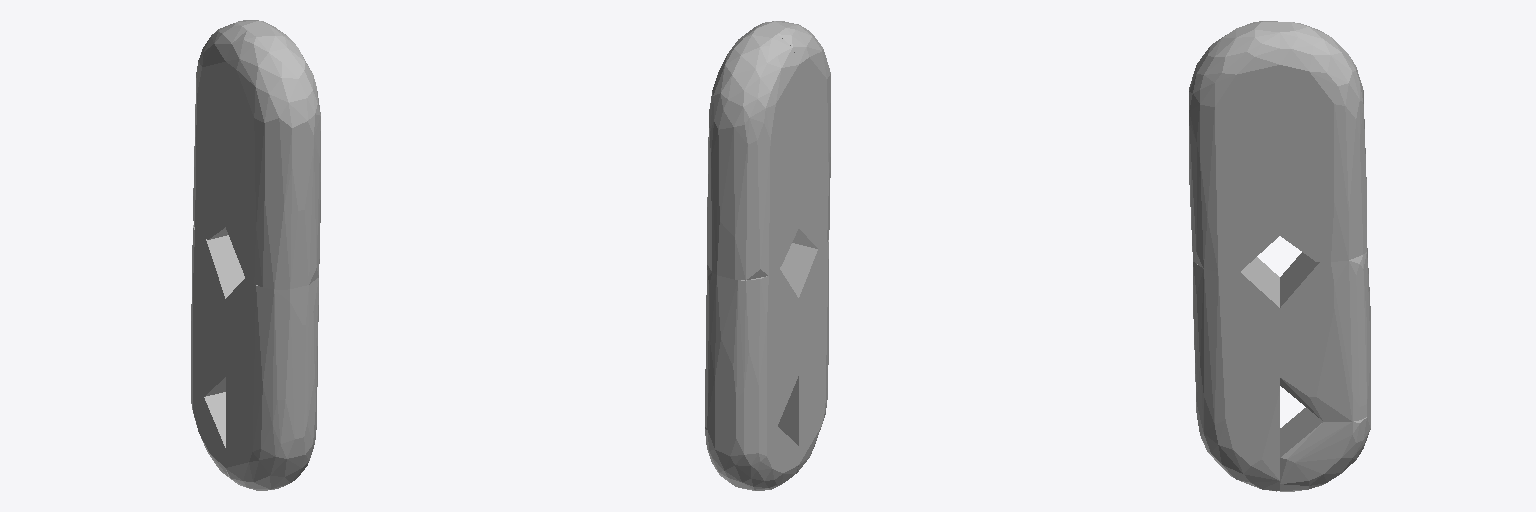
The robot description file, URDF, robot "root":
<robot name="root">
  <link name="link_thingiverse~three_hole_spinner_5361537_convex_piece_0">
    <inertial>
      <origin rpy="0 0 0" xyz="0 0 0"/>
      <mass value="2.49E-01"/>
      <inertia ixx="8.78E-04" ixy="-1.03E-07" ixz="2.86E-07" iyy="8.05E-04" iyz="1.87E-04" izz="1.05E-04"/>
    </inertial>
    <visual>
      <origin rpy="0 0 0" xyz="0 0 0"/>
      <geometry>
        <mesh filename="thingiverse~three_hole_spinner_5361537_convex_piece_0.obj" scale="1.0000E+00 1.0000E+00 1.0000E+00"/>
      </geometry>
      <material name="">
        <color rgba="7.50E-01 7.50E-01 7.50E-01 1"/>
      </material>
    </visual>
    <collision>
      <origin rpy="0 0 0" xyz="0 0 0"/>
      <geometry>
        <mesh filename="thingiverse~three_hole_spinner_5361537_convex_piece_0.obj" scale="1.0000E+00 1.0000E+00 1.0000E+00"/>
      </geometry>
    </collision>
  </link>
  <link name="link_thingiverse~three_hole_spinner_5361537_convex_piece_1">
    <inertial>
      <origin rpy="0 0 0" xyz="0 0 0"/>
      <mass value="2.70E-01"/>
      <inertia ixx="9.99E-04" ixy="-9.93E-07" ixz="2.41E-06" iyy="9.09E-04" iyz="-2.24E-04" izz="1.26E-04"/>
    </inertial>
    <visual>
      <origin rpy="0 0 0" xyz="0 0 0"/>
      <geometry>
        <mesh filename="thingiverse~three_hole_spinner_5361537_convex_piece_1.obj" scale="1.0000E+00 1.0000E+00 1.0000E+00"/>
      </geometry>
      <material name="">
        <color rgba="7.50E-01 7.50E-01 7.50E-01 1"/>
      </material>
    </visual>
    <collision>
      <origin rpy="0 0 0" xyz="0 0 0"/>
      <geometry>
        <mesh filename="thingiverse~three_hole_spinner_5361537_convex_piece_1.obj" scale="1.0000E+00 1.0000E+00 1.0000E+00"/>
      </geometry>
    </collision>
  </link>
  <joint name="link_thingiverse~three_hole_spinner_5361537_convex_piece_1_joint" type="fixed">
    <origin rpy="0 0 0" xyz="0 0 0"/>
    <parent link="link_thingiverse~three_hole_spinner_5361537_convex_piece_0"/>
    <child link="link_thingiverse~three_hole_spinner_5361537_convex_piece_1"/>
  </joint>
  <link name="link_thingiverse~three_hole_spinner_5361537_convex_piece_2">
    <inertial>
      <origin rpy="0 0 0" xyz="0 0 0"/>
      <mass value="2.44E-01"/>
      <inertia ixx="8.88E-04" ixy="-1.82E-07" ixz="5.75E-07" iyy="8.21E-04" iyz="1.87E-04" izz="1.00E-04"/>
    </inertial>
    <visual>
      <origin rpy="0 0 0" xyz="0 0 0"/>
      <geometry>
        <mesh filename="thingiverse~three_hole_spinner_5361537_convex_piece_2.obj" scale="1.0000E+00 1.0000E+00 1.0000E+00"/>
      </geometry>
      <material name="">
        <color rgba="7.50E-01 7.50E-01 7.50E-01 1"/>
      </material>
    </visual>
    <collision>
      <origin rpy="0 0 0" xyz="0 0 0"/>
      <geometry>
        <mesh filename="thingiverse~three_hole_spinner_5361537_convex_piece_2.obj" scale="1.0000E+00 1.0000E+00 1.0000E+00"/>
      </geometry>
    </collision>
  </link>
  <joint name="link_thingiverse~three_hole_spinner_5361537_convex_piece_2_joint" type="fixed">
    <origin rpy="0 0 0" xyz="0 0 0"/>
    <parent link="link_thingiverse~three_hole_spinner_5361537_convex_piece_1"/>
    <child link="link_thingiverse~three_hole_spinner_5361537_convex_piece_2"/>
  </joint>
  <link name="link_thingiverse~three_hole_spinner_5361537_convex_piece_3">
    <inertial>
      <origin rpy="0 0 0" xyz="0 0 0"/>
      <mass value="6.87E-02"/>
      <inertia ixx="5.32E-04" ixy="-4.17E-07" ixz="1.97E-06" iyy="5.10E-04" iyz="-9.70E-05" izz="3.01E-05"/>
    </inertial>
    <visual>
      <origin rpy="0 0 0" xyz="0 0 0"/>
      <geometry>
        <mesh filename="thingiverse~three_hole_spinner_5361537_convex_piece_3.obj" scale="1.0000E+00 1.0000E+00 1.0000E+00"/>
      </geometry>
      <material name="">
        <color rgba="7.50E-01 7.50E-01 7.50E-01 1"/>
      </material>
    </visual>
    <collision>
      <origin rpy="0 0 0" xyz="0 0 0"/>
      <geometry>
        <mesh filename="thingiverse~three_hole_spinner_5361537_convex_piece_3.obj" scale="1.0000E+00 1.0000E+00 1.0000E+00"/>
      </geometry>
    </collision>
  </link>
  <joint name="link_thingiverse~three_hole_spinner_5361537_convex_piece_3_joint" type="fixed">
    <origin rpy="0 0 0" xyz="0 0 0"/>
    <parent link="link_thingiverse~three_hole_spinner_5361537_convex_piece_2"/>
    <child link="link_thingiverse~three_hole_spinner_5361537_convex_piece_3"/>
  </joint>
  <link name="link_thingiverse~three_hole_spinner_5361537_convex_piece_4">
    <inertial>
      <origin rpy="0 0 0" xyz="0 0 0"/>
      <mass value="1.87E-01"/>
      <inertia ixx="3.55E-04" ixy="-5.16E-07" ixz="7.22E-07" iyy="2.83E-04" iyz="-1.16E-04" izz="9.79E-05"/>
    </inertial>
    <visual>
      <origin rpy="0 0 0" xyz="0 0 0"/>
      <geometry>
        <mesh filename="thingiverse~three_hole_spinner_5361537_convex_piece_4.obj" scale="1.0000E+00 1.0000E+00 1.0000E+00"/>
      </geometry>
      <material name="">
        <color rgba="7.50E-01 7.50E-01 7.50E-01 1"/>
      </material>
    </visual>
    <collision>
      <origin rpy="0 0 0" xyz="0 0 0"/>
      <geometry>
        <mesh filename="thingiverse~three_hole_spinner_5361537_convex_piece_4.obj" scale="1.0000E+00 1.0000E+00 1.0000E+00"/>
      </geometry>
    </collision>
  </link>
  <joint name="link_thingiverse~three_hole_spinner_5361537_convex_piece_4_joint" type="fixed">
    <origin rpy="0 0 0" xyz="0 0 0"/>
    <parent link="link_thingiverse~three_hole_spinner_5361537_convex_piece_3"/>
    <child link="link_thingiverse~three_hole_spinner_5361537_convex_piece_4"/>
  </joint>
</robot>

--- What the picture shows (computed from the rendered views, not written in the file) ---
The picture shows the robot from 3 angles, left to right: view 1: azimuth 30°, elevation 25°; view 2: azimuth 150°, elevation 25°; view 3: azimuth 270°, elevation 25°; orthographic projection.
Model root with 5 links and 4 joints (4 fixed), rooted at link_thingiverse~three_hole_spinner_5361537_convex_piece_0, posed all joints at 0.
Visible links, largest first — view 1: link_thingiverse~three_hole_spinner_5361537_convex_piece_1, link_thingiverse~three_hole_spinner_5361537_convex_piece_0, link_thingiverse~three_hole_spinner_5361537_convex_piece_2, link_thingiverse~three_hole_spinner_5361537_convex_piece_4, link_thingiverse~three_hole_spinner_5361537_convex_piece_3; view 2: link_thingiverse~three_hole_spinner_5361537_convex_piece_2, link_thingiverse~three_hole_spinner_5361537_convex_piece_4, link_thingiverse~three_hole_spinner_5361537_convex_piece_0, link_thingiverse~three_hole_spinner_5361537_convex_piece_1, link_thingiverse~three_hole_spinner_5361537_convex_piece_3; view 3: link_thingiverse~three_hole_spinner_5361537_convex_piece_1, link_thingiverse~three_hole_spinner_5361537_convex_piece_2, link_thingiverse~three_hole_spinner_5361537_convex_piece_0, link_thingiverse~three_hole_spinner_5361537_convex_piece_4, link_thingiverse~three_hole_spinner_5361537_convex_piece_3.
Link boxes in pixels (x1,y1,x2,y2): link_thingiverse~three_hole_spinner_5361537_convex_piece_1: (226, 25, 320, 289); link_thingiverse~three_hole_spinner_5361537_convex_piece_0: (226, 278, 318, 490); link_thingiverse~three_hole_spinner_5361537_convex_piece_2: (193, 20, 279, 239); link_thingiverse~three_hole_spinner_5361537_convex_piece_4: (191, 225, 244, 396); link_thingiverse~three_hole_spinner_5361537_convex_piece_3: (191, 385, 231, 479); link_thingiverse~three_hole_spinner_5361537_convex_piece_2: (707, 29, 798, 280); link_thingiverse~three_hole_spinner_5361537_convex_piece_4: (705, 265, 798, 438); link_thingiverse~three_hole_spinner_5361537_convex_piece_0: (778, 240, 828, 473); link_thingiverse~three_hole_spinner_5361537_convex_piece_1: (745, 21, 830, 248); link_thingiverse~three_hole_spinner_5361537_convex_piece_3: (705, 426, 798, 490); link_thingiverse~three_hole_spinner_5361537_convex_piece_1: (1189, 21, 1279, 271); link_thingiverse~three_hole_spinner_5361537_convex_piece_2: (1280, 22, 1366, 261); link_thingiverse~three_hole_spinner_5361537_convex_piece_0: (1193, 257, 1279, 491); link_thingiverse~three_hole_spinner_5361537_convex_piece_4: (1280, 248, 1370, 421); link_thingiverse~three_hole_spinner_5361537_convex_piece_3: (1280, 408, 1370, 491).
Size in the robot's own frame: 0.0299 by 0.0748 by 0.2094 metres.
Meshes: 5 distinct files referenced, 5 mesh visuals loaded (5 OBJ).
